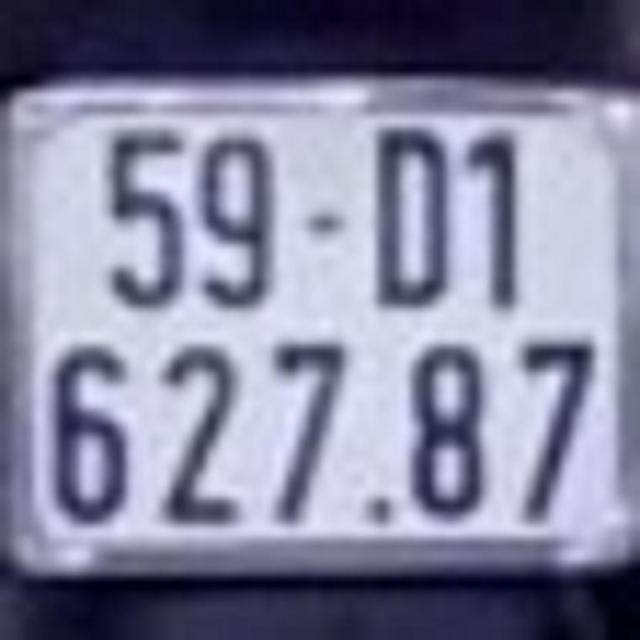1: (459, 115, 522, 308)
2: (158, 327, 238, 532)
5: (108, 120, 188, 313)
6: (52, 333, 128, 532)
7: (268, 332, 342, 524), (520, 324, 593, 518)
8: (414, 328, 486, 521)
9: (198, 122, 269, 316)
D: (369, 116, 450, 310)
